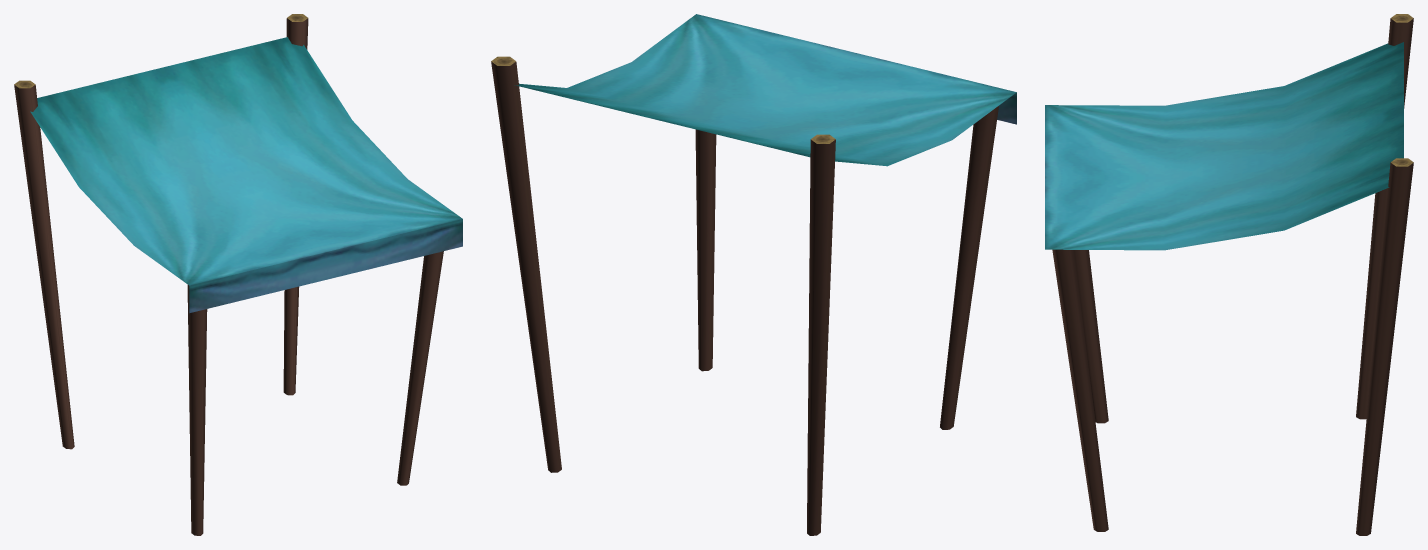
Rendered from zhucheng_tanwei_3.FBX.
3 views of the same model, side by side, from view 1: azimuth 30°, elevation 25°; view 2: azimuth 150°, elevation 25°; view 3: azimuth 270°, elevation 25° (orthographic). The views are drawn at different scales.
Visible parts, largest first — view 1: zhucheng_tanwei_3; view 2: zhucheng_tanwei_3; view 3: zhucheng_tanwei_3.
Part boxes in pixels (left/top/right/bottom): zhucheng_tanwei_3: left=14, top=14, right=462, bottom=535; zhucheng_tanwei_3: left=491, top=14, right=1016, bottom=535; zhucheng_tanwei_3: left=1045, top=14, right=1413, bottom=535.
Size of the model in its own units: 269 by 317 by 275.
